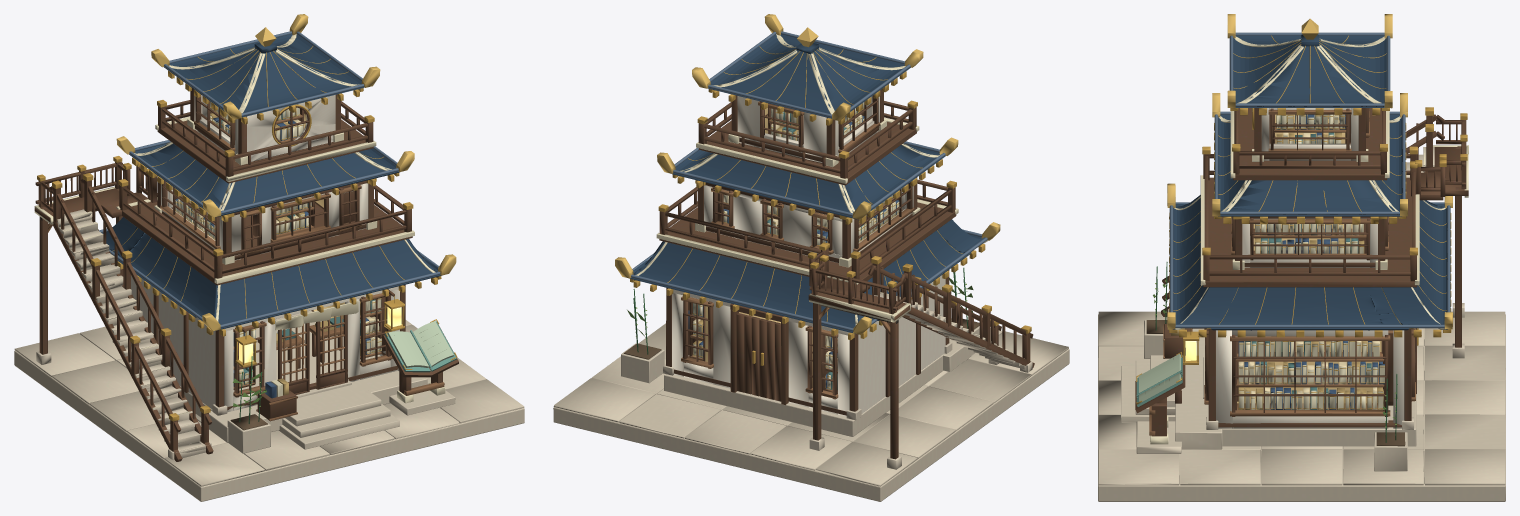
Rendered from library-lod1-9fe698dc5bd5.glb.
3 views of the same model, side by side, from view 1: azimuth 30°, elevation 25°; view 2: azimuth 150°, elevation 25°; view 3: azimuth 270°, elevation 25° (orthographic). The views are drawn at different scales.
Parts seen in each view (by area): view 1: RFbatch_90.022, RFbatch_148.003, RFbatch_49.034, RFbatch_7.034, RFbatch_152.003, RFbatch_4.034, RFbatch_149.003, RFbatch_33.034, RFbatch_50.034, RFbatch_151.003, RFbatch_161.003, RFbatch_155.003 (+2 smaller); view 2: RFbatch_90.022, RFbatch_148.003, RFbatch_49.034, RFbatch_7.034, RFbatch_152.003, RFbatch_4.034, RFbatch_33.034, RFbatch_50.034, RFbatch_149.003, RFbatch_151.003; view 3: RFbatch_90.022, RFbatch_49.034, RFbatch_148.003, RFbatch_151.003, RFbatch_152.003, RFbatch_7.034, RFbatch_149.003, RFbatch_33.034, RFbatch_4.034, RFbatch_50.034, RFbatch_147.003, RFbatch_150.003 (+6 smaller).
Boxes of the visible parts, <box> form: RFbatch_90.022: <box>14,209,524,501</box>; RFbatch_148.003: <box>34,88,458,461</box>; RFbatch_49.034: <box>102,34,441,330</box>; RFbatch_7.034: <box>131,95,399,412</box>; RFbatch_152.003: <box>37,46,457,421</box>; RFbatch_4.034: <box>34,34,445,448</box>; RFbatch_149.003: <box>48,111,444,420</box>; RFbatch_33.034: <box>99,31,440,327</box>; RFbatch_50.034: <box>116,14,456,331</box>; RFbatch_151.003: <box>175,101,381,396</box>; RFbatch_161.003: <box>387,321,453,367</box>; RFbatch_155.003: <box>191,107,360,395</box>; RFbatch_90.022: <box>553,292,1069,501</box>; RFbatch_148.003: <box>659,89,1034,459</box>; RFbatch_49.034: <box>630,34,984,334</box>; RFbatch_7.034: <box>672,96,945,416</box>; RFbatch_152.003: <box>630,46,1031,388</box>; RFbatch_4.034: <box>635,34,1013,353</box>; RFbatch_33.034: <box>631,31,987,331</box>; RFbatch_50.034: <box>615,14,1000,334</box>; RFbatch_149.003: <box>681,101,914,398</box>; RFbatch_151.003: <box>693,102,899,388</box>; RFbatch_90.022: <box>1098,147,1505,501</box>; RFbatch_49.034: <box>1173,34,1447,330</box>; RFbatch_148.003: <box>1135,108,1468,436</box>; RFbatch_151.003: <box>1239,114,1384,409</box>; RFbatch_152.003: <box>1136,35,1467,408</box>; RFbatch_7.034: <box>1216,108,1404,428</box>; RFbatch_149.003: <box>1149,110,1415,435</box>; RFbatch_33.034: <box>1169,32,1450,328</box>; RFbatch_4.034: <box>1150,36,1468,444</box>; RFbatch_50.034: <box>1167,14,1452,329</box>; RFbatch_147.003: <box>1237,114,1381,403</box>; RFbatch_150.003: <box>1238,114,1384,409</box>.
Bounding box in the file's own units: 10 × 10.76 × 10.
Materials: 24 (6 with a texture image).
